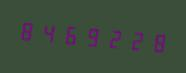eight: (17, 13, 37, 48), (143, 24, 163, 59)
four: (38, 15, 58, 49)
nine: (80, 18, 100, 53)
six: (59, 17, 79, 51)
two: (101, 20, 121, 55), (122, 22, 142, 57)
